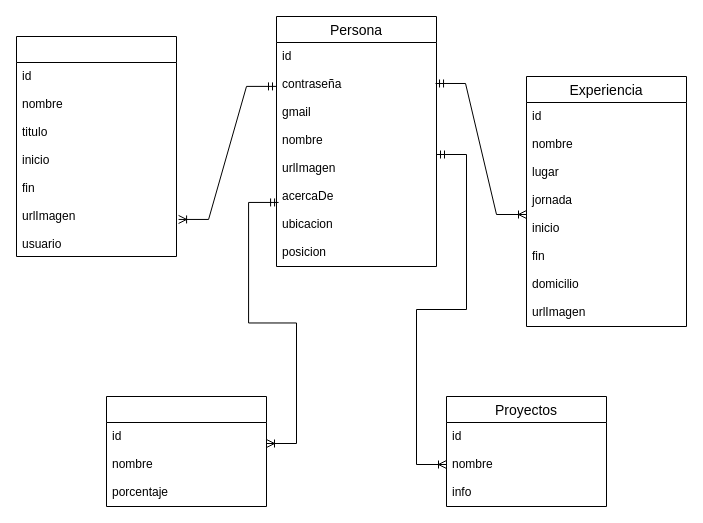
This 703x523 diagram has some shape labels left out. Here are the shapes that lost their labels. From the top down, the box of each, then its label:
(16, 36, 176, 256): Educacion
(106, 396, 266, 506): Skill
